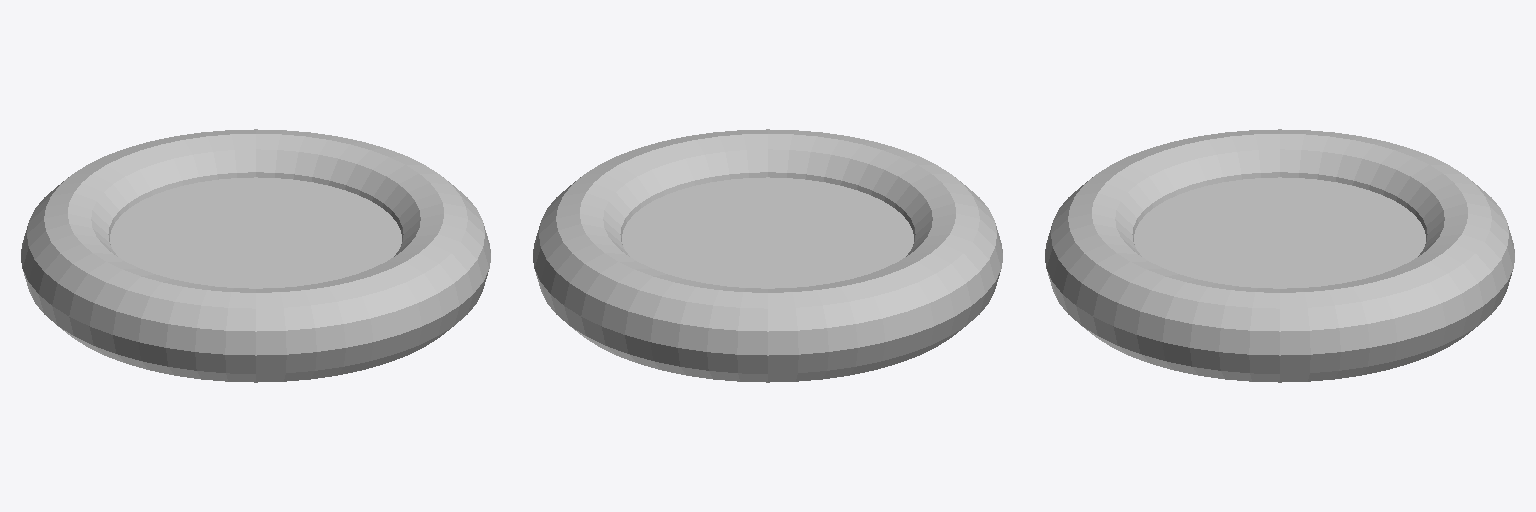
File: cat_bed.obj
3 renders of one model, left to right at view 1: azimuth 30°, elevation 25°; view 2: azimuth 150°, elevation 25°; view 3: azimuth 270°, elevation 25°, orthographic.
Parts seen in each view (by area): view 1: Torus, Cylinder; view 2: Torus, Cylinder; view 3: Torus, Cylinder.
Part boxes in pixels (left/top/right/bottom): Torus: left=21, top=129, right=490, bottom=382; Cylinder: left=110, top=177, right=401, bottom=288; Torus: left=533, top=129, right=1002, bottom=382; Cylinder: left=622, top=177, right=913, bottom=288; Torus: left=1045, top=129, right=1514, bottom=382; Cylinder: left=1134, top=177, right=1425, bottom=288.
Bounding box in the file's own units: 2.5 × 0.5 × 2.5.